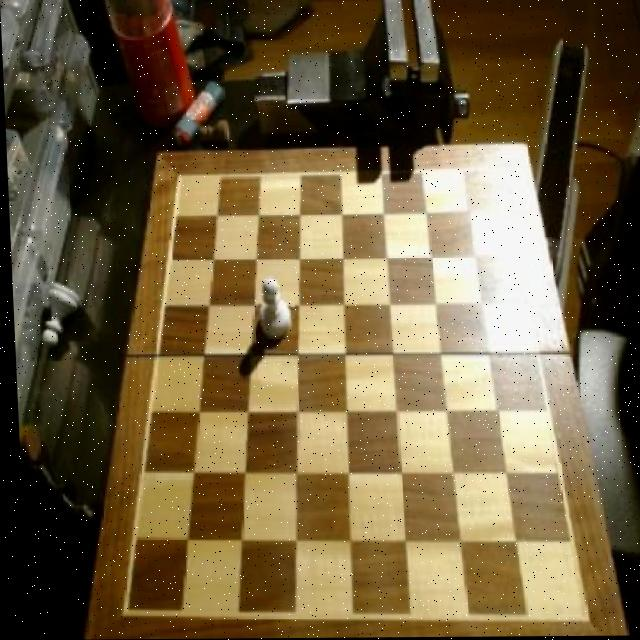white-knight: (254, 272, 294, 350)
